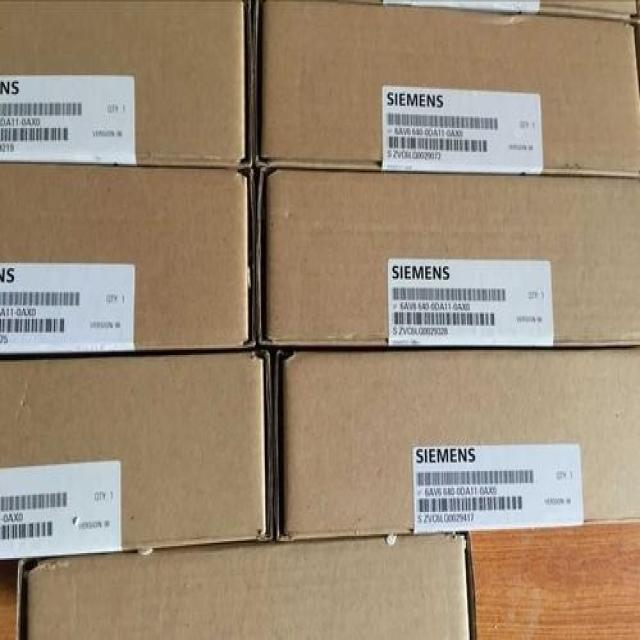box: (274, 346, 640, 543), (257, 167, 640, 348), (251, 0, 640, 176), (0, 350, 273, 560), (15, 531, 479, 640), (0, 160, 256, 355), (0, 0, 252, 169), (348, 0, 636, 20)
